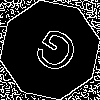G: (25, 25, 83, 85)
